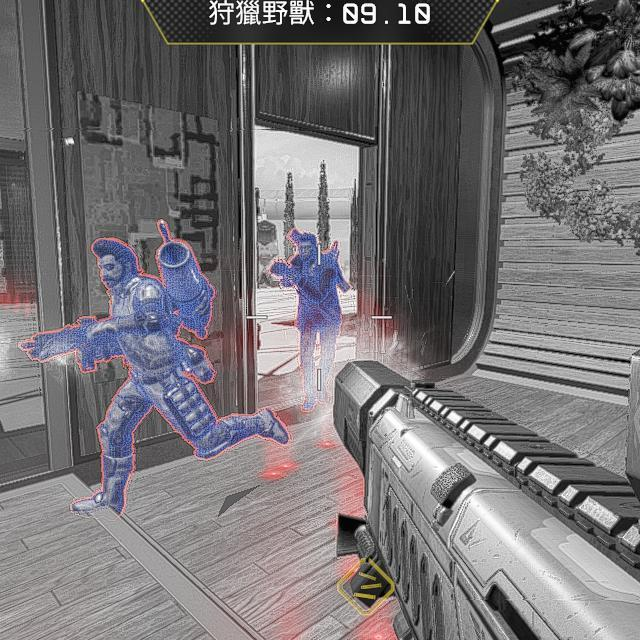avatar: (70, 230, 221, 519), (268, 227, 351, 414)
